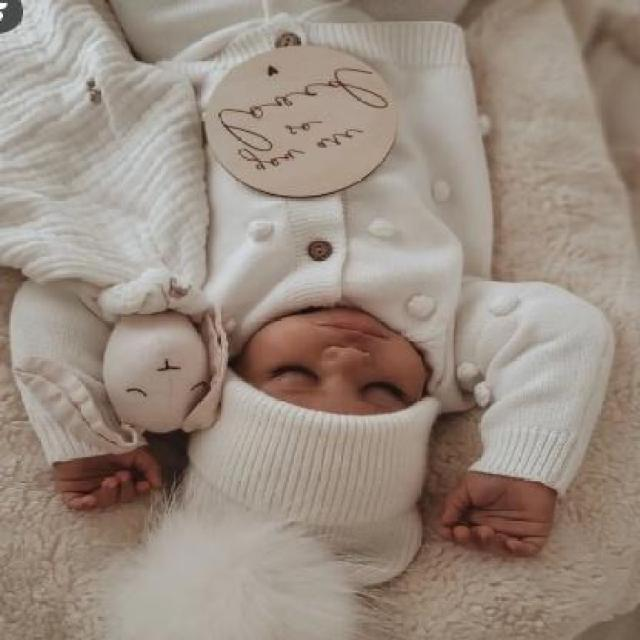baby: (9, 8, 618, 588)
